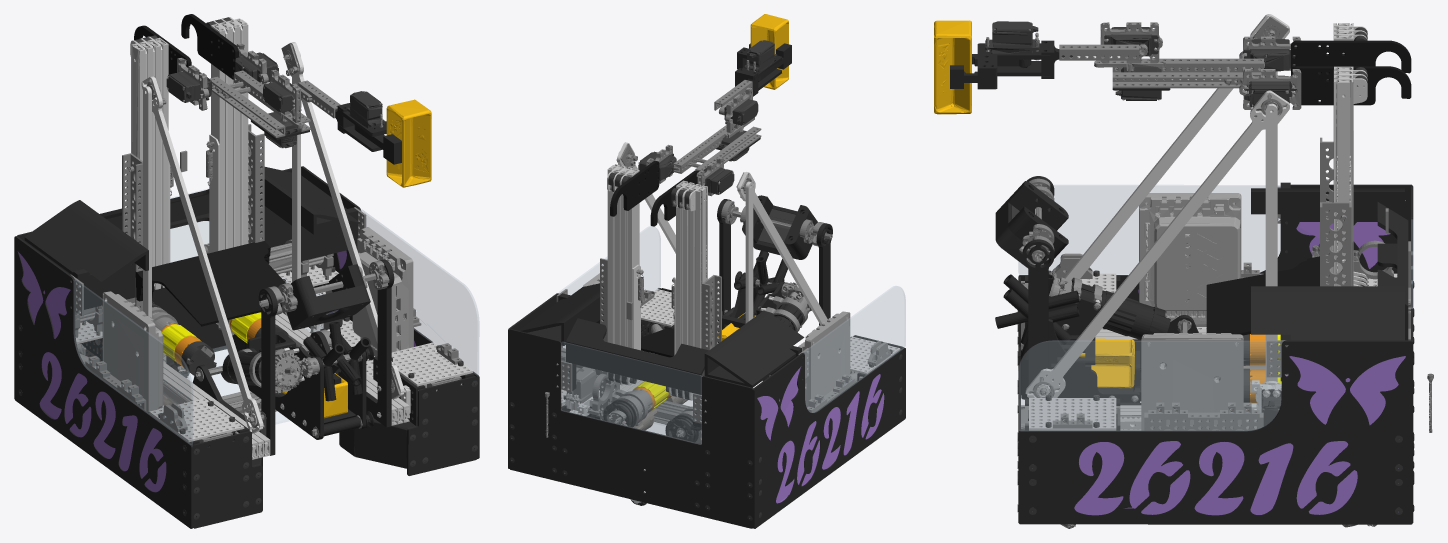
Rendered from purple-emperor.glb.
The picture shows the model from 3 angles, left to right: view 1: azimuth 30°, elevation 25°; view 2: azimuth 150°, elevation 25°; view 3: azimuth 270°, elevation 25°; orthographic projection. The views are drawn at different scales.
Parts seen in each view (by area): view 1: Body9_11, Body1, Body1_182, Body1_1294; view 2: Body9_11, Body1, Body1_182; view 3: Body9_11, Body1, Body1_182, Body1_1294.
Part boxes in pixels (box(x1,y1,x2,y2)): Body9_11: box(14, 14, 479, 528); Body1: box(70, 17, 472, 459); Body1_182: box(74, 189, 479, 444); Body1_1294: box(161, 319, 261, 366); Body9_11: box(508, 14, 905, 528); Body1: box(545, 41, 900, 503); Body1_182: box(559, 226, 905, 444); Body9_11: box(934, 20, 1414, 524); Body1: box(986, 14, 1433, 528); Body1_182: box(1018, 185, 1413, 430); Body1_1294: box(1250, 334, 1265, 403).
Size of the model in its own units: 0.3747 by 0.5085 by 0.5025.
4 materials, 4 textured.
